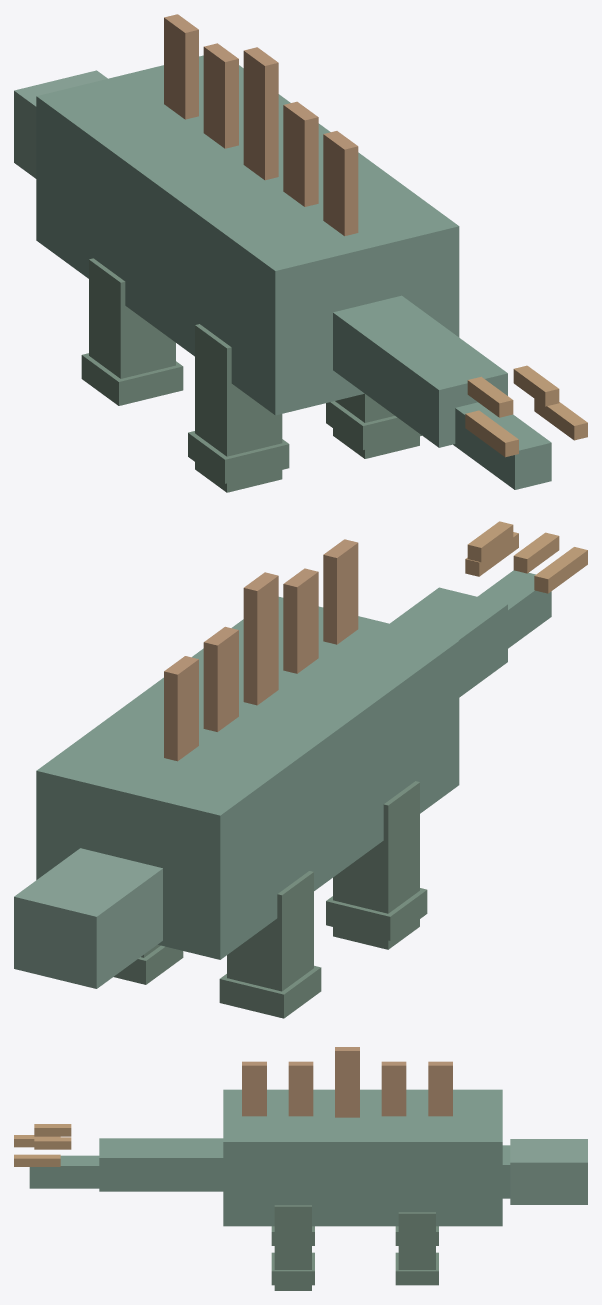
The model's file is stegosaurus.glb.
3 views of the same model, one above another, from view 1: azimuth 30°, elevation 25°; view 2: azimuth 150°, elevation 25°; view 3: azimuth 270°, elevation 25° (orthographic). The views are drawn at different scales.
Parts seen in each view (by area): view 1: Dinosaur; view 2: Dinosaur; view 3: Dinosaur.
Boxes of the visible parts, x1,y1,x2,y2 form: Dinosaur: (14, 14, 587, 492); Dinosaur: (14, 521, 587, 1018); Dinosaur: (14, 1047, 587, 1290).
Bounding box in the file's own units: 0.88 × 1.52 × 3.7.
